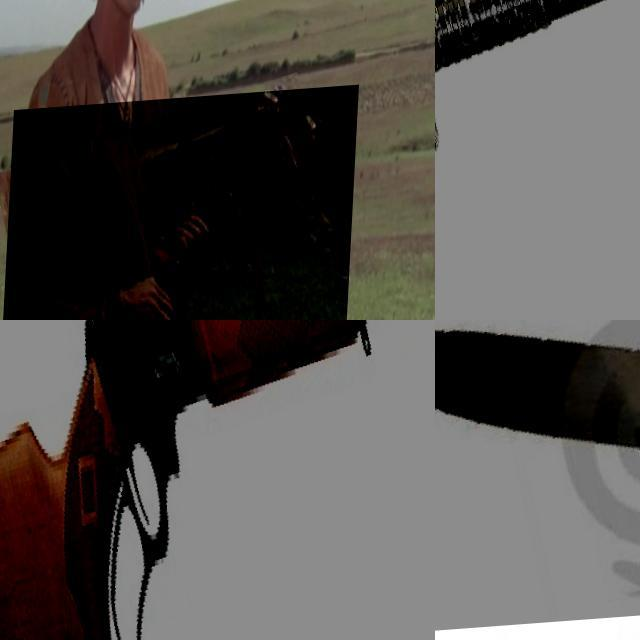-: (435, 320, 640, 638)
gun-knife-thesis - v11 Yolov5 augmented: (0, 320, 435, 640), (3, 92, 362, 320), (435, 0, 640, 320)
